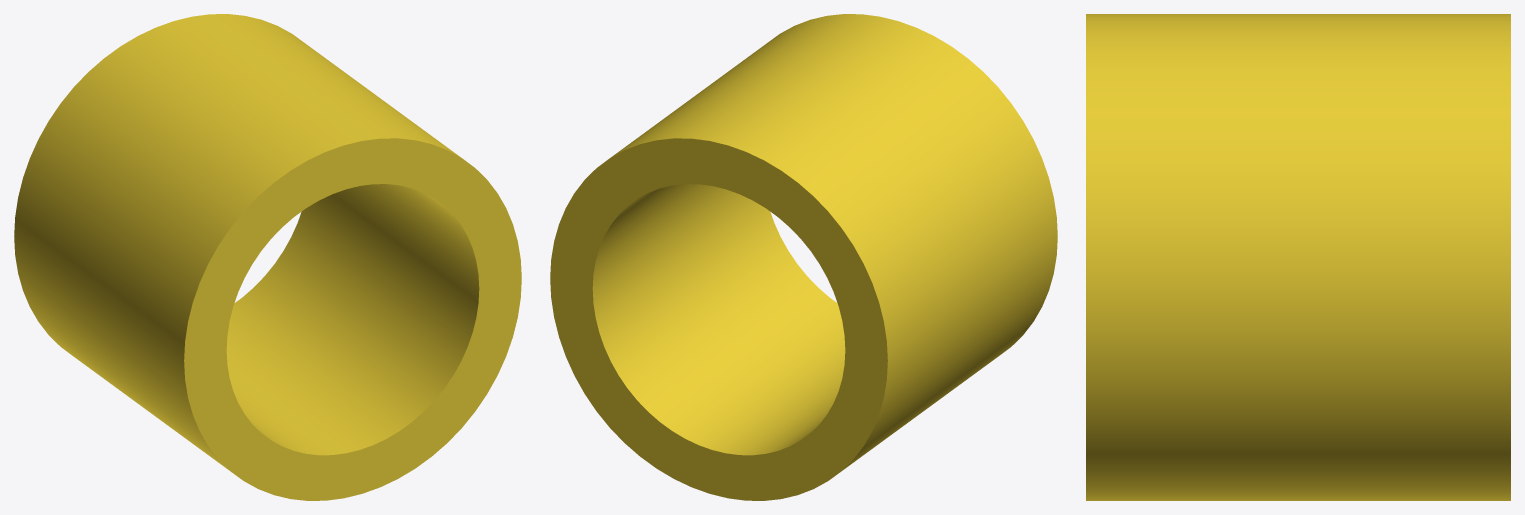
The model's file is _6391K878_Oil_Embedded_841_Bronze_Sleeve_Bearing.gltf.
The picture shows the model from 3 angles, left to right: view 1: azimuth 30°, elevation 25°; view 2: azimuth 150°, elevation 25°; view 3: azimuth 270°, elevation 25°; orthographic projection. The views are drawn at different scales.
Visible parts, largest first — view 1: mesh5995, mesh5996, mesh5994; view 2: mesh5995, mesh5996, mesh5997; view 3: mesh5995.
Part boxes in pixels (x1,y1,x2,y2): mesh5995: (14, 14, 460, 473); mesh5996: (226, 184, 479, 455); mesh5994: (184, 138, 521, 500); mesh5995: (611, 14, 1057, 473); mesh5996: (592, 184, 845, 455); mesh5997: (550, 138, 887, 500); mesh5995: (1086, 14, 1510, 500).
Bounding box in the file's own units: 0.0128 × 0.0127 × 0.0111.
